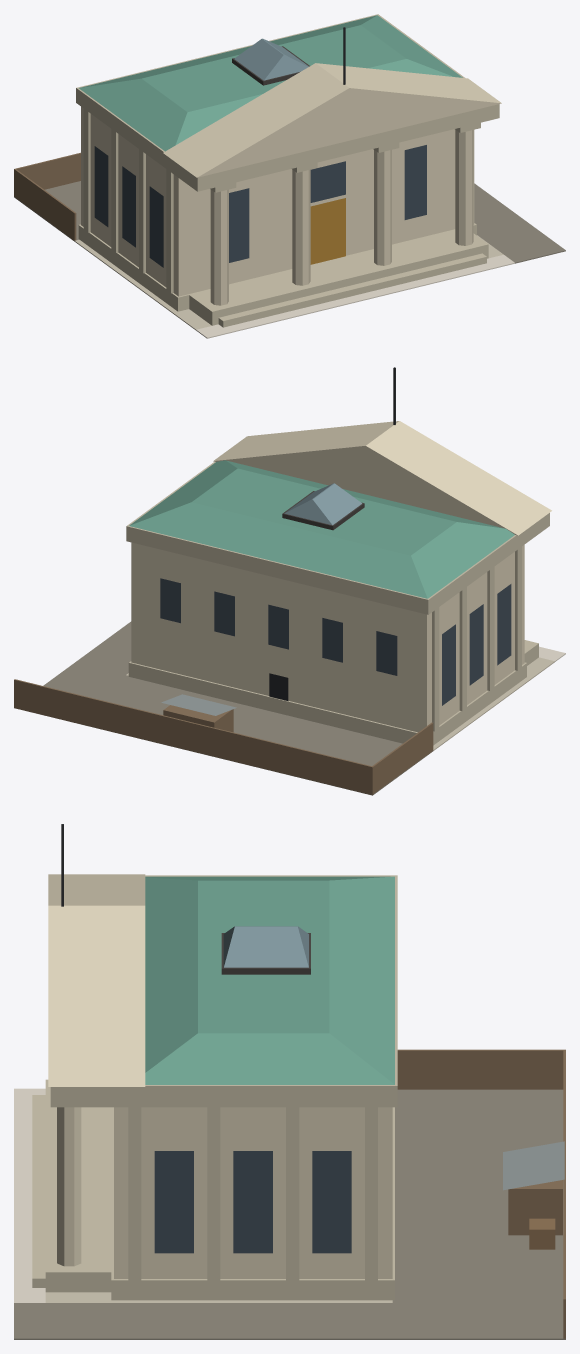
File: store_m.glb
3 views of the same model, one above another, from view 1: azimuth 30°, elevation 25°; view 2: azimuth 150°, elevation 25°; view 3: azimuth 270°, elevation 25° (orthographic). The views are drawn at different scales.
Visible parts, largest first — view 1: store_m; view 2: store_m; view 3: store_m.
Boxes of the visible parts, box(x1,y1,x2,y2) form: store_m: box(14, 14, 565, 338); store_m: box(14, 367, 565, 795); store_m: box(14, 824, 565, 1339).
Bounding box in the file's own units: 30 × 20.87 × 28.
